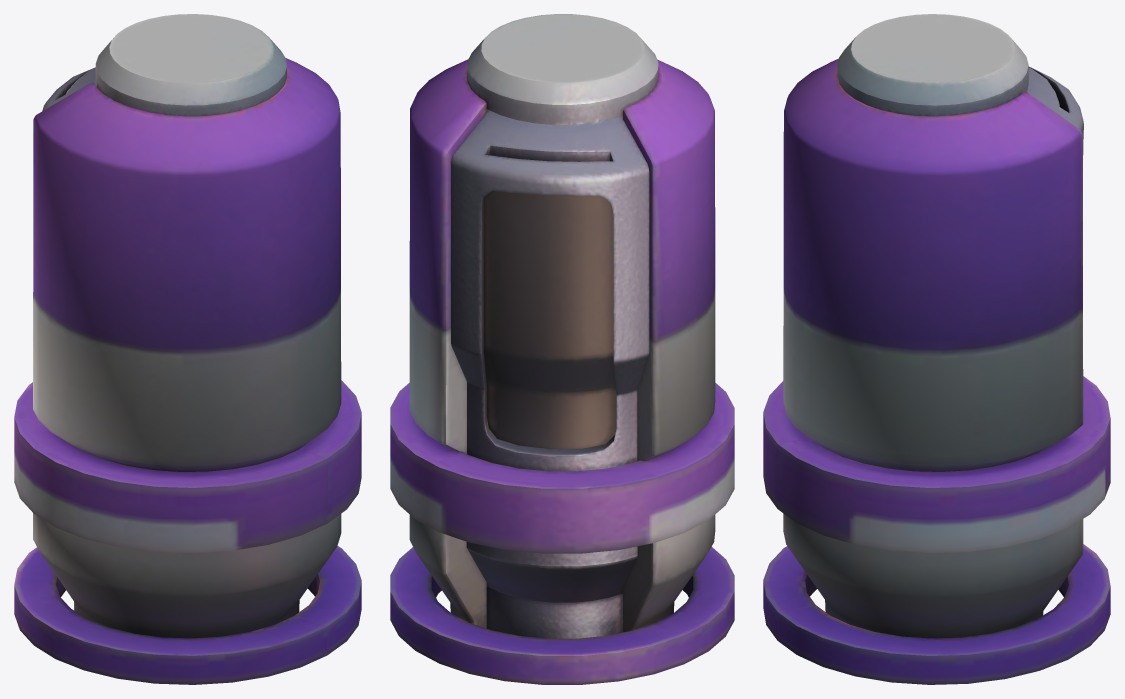
Rendered from pref_sm_choujiangjiemian_mx03_lv0.fbx.
3 views of the same model, side by side, from view 1: azimuth 30°, elevation 25°; view 2: azimuth 150°, elevation 25°; view 3: azimuth 270°, elevation 25° (orthographic).
Parts seen in each view (by area): view 1: pref_sm_choujiangjiemian_mx03_lv0; view 2: pref_sm_choujiangjiemian_mx03_lv0; view 3: pref_sm_choujiangjiemian_mx03_lv0.
Boxes of the visible parts, x1,y1,x2,y2 form: pref_sm_choujiangjiemian_mx03_lv0: [14, 14, 361, 684]; pref_sm_choujiangjiemian_mx03_lv0: [390, 14, 734, 684]; pref_sm_choujiangjiemian_mx03_lv0: [763, 14, 1110, 684].
Bounding box in the file's own units: 1.1 × 2.06 × 1.1.
